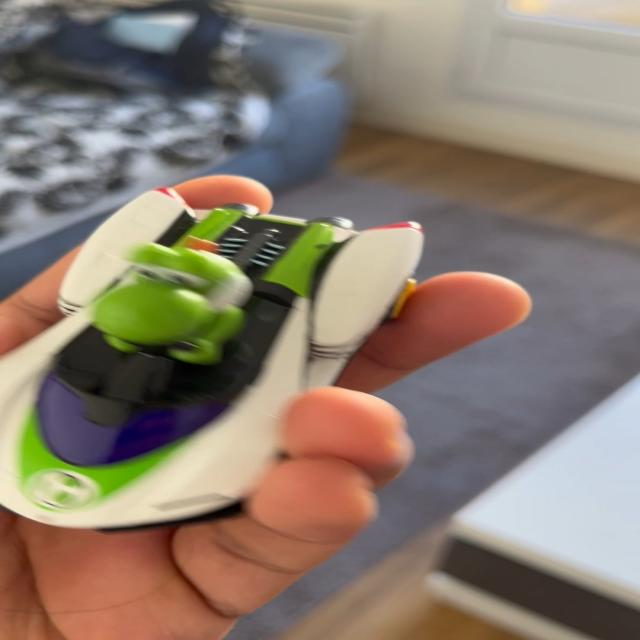yoshi: (0, 165, 438, 554)
